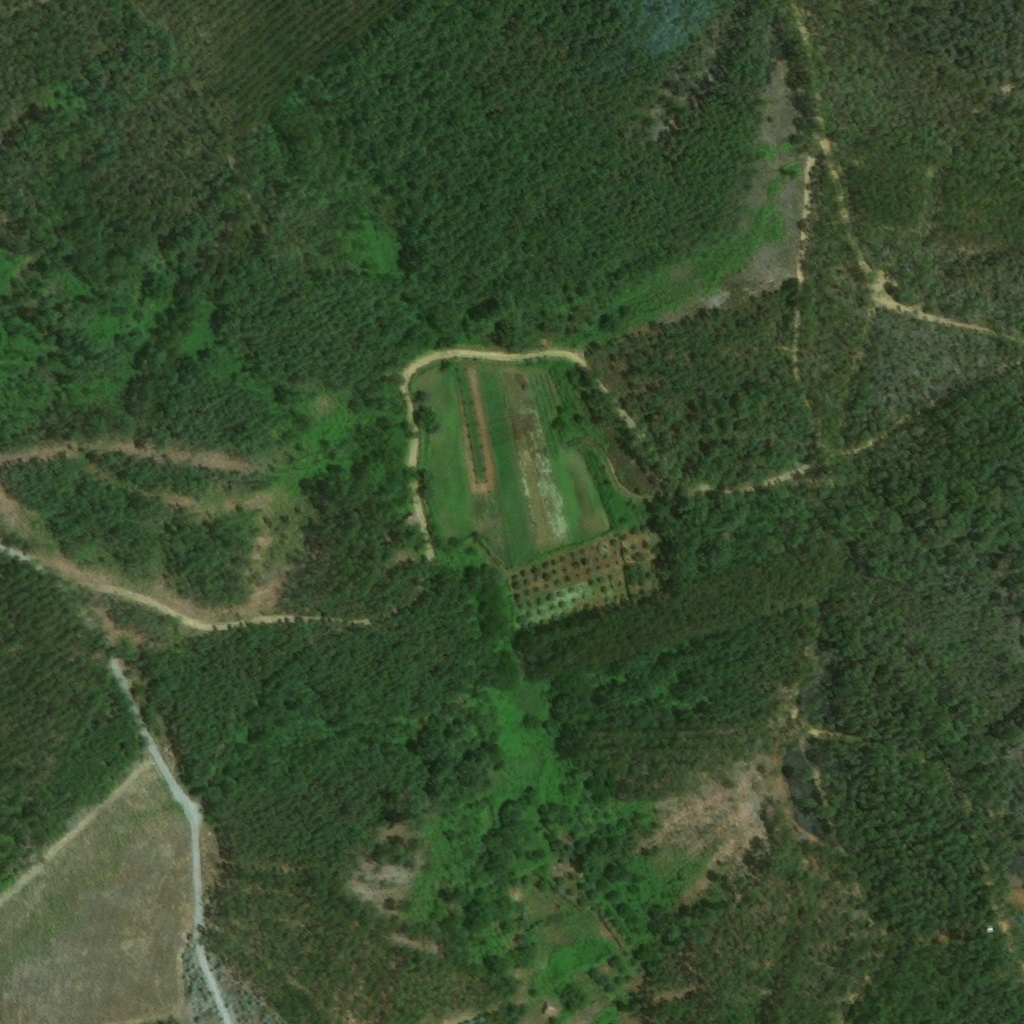0 no-damage: (541, 1005, 558, 1020)
